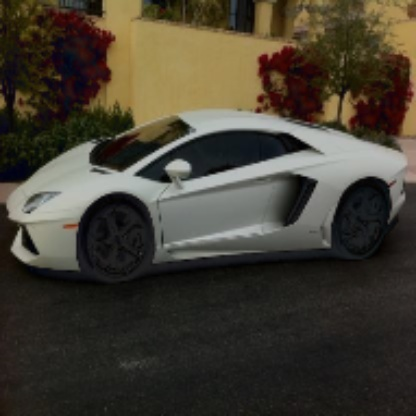Vehicle: (3, 109, 408, 283)
